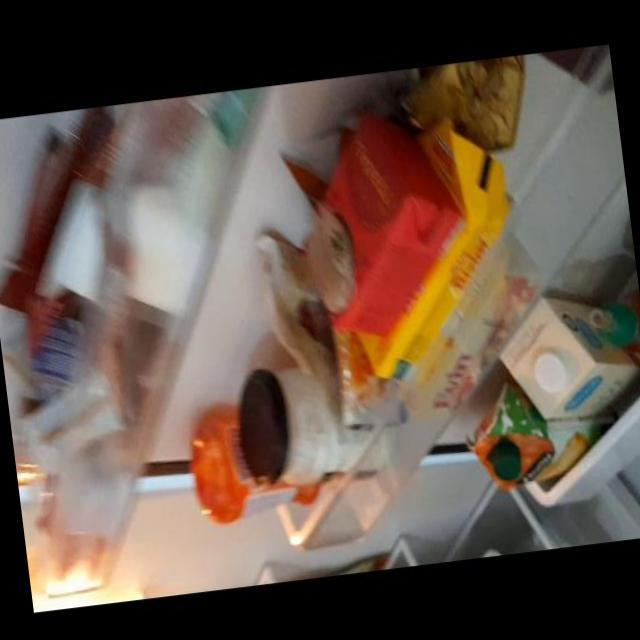cream cheese: (291, 103, 459, 338)
juice: (469, 413, 591, 490)
milk: (496, 296, 632, 416)
